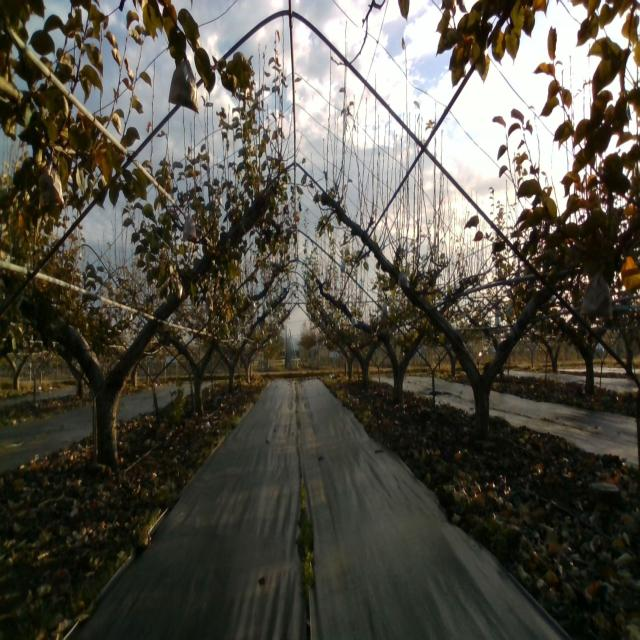pearbags: (168, 54, 200, 114), (579, 270, 612, 321), (40, 168, 65, 205), (182, 212, 197, 242), (398, 269, 411, 289)
